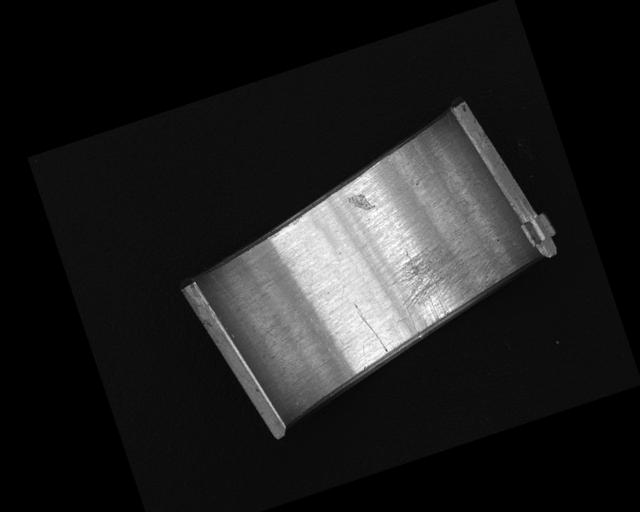bruise: (346, 190, 376, 215)
nick: (209, 259, 275, 350), (352, 298, 389, 358)
scratch: (382, 224, 510, 340)
